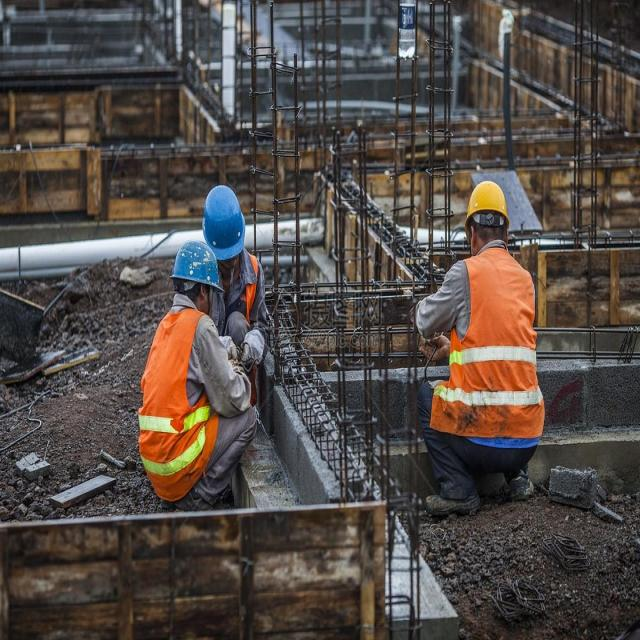helmet: (204, 183, 247, 262), (170, 239, 216, 287), (465, 180, 512, 215)
person: (412, 170, 555, 498), (133, 237, 262, 508)
vest: (434, 259, 549, 440), (138, 307, 219, 495)
